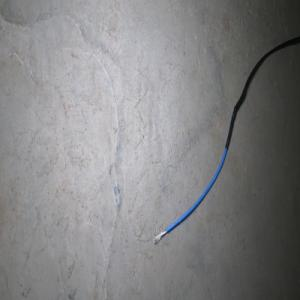Wire: (153, 35, 300, 244)
